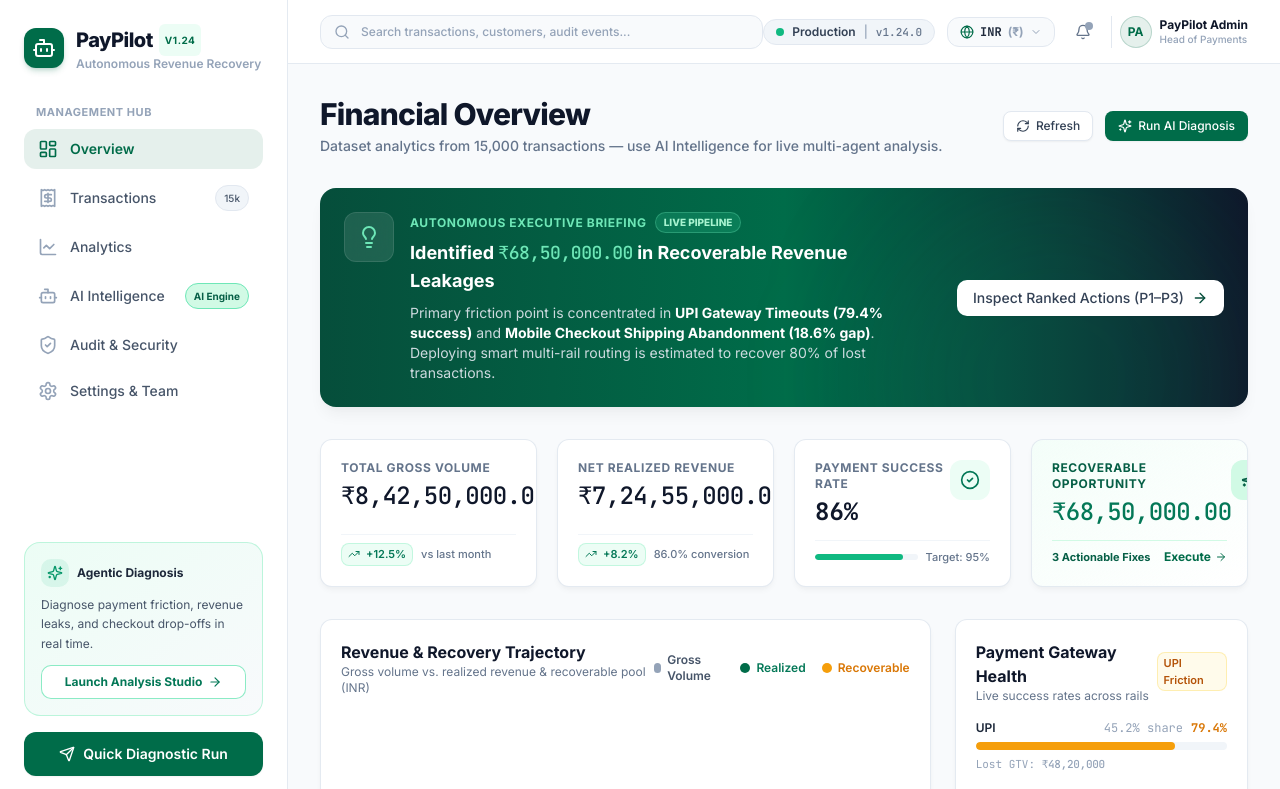
Test: PayPilot Application End-to-End Screen Verification › 4. AI Intelligence Center: Shows an honest empty state on load, and a visible error (never fake data) when the backend is unreachable
This screenshot has width=1280, height=789.
Click the button "AI Intelligence AI Engine". click: click(144, 296)
box: [24,272,263,318]
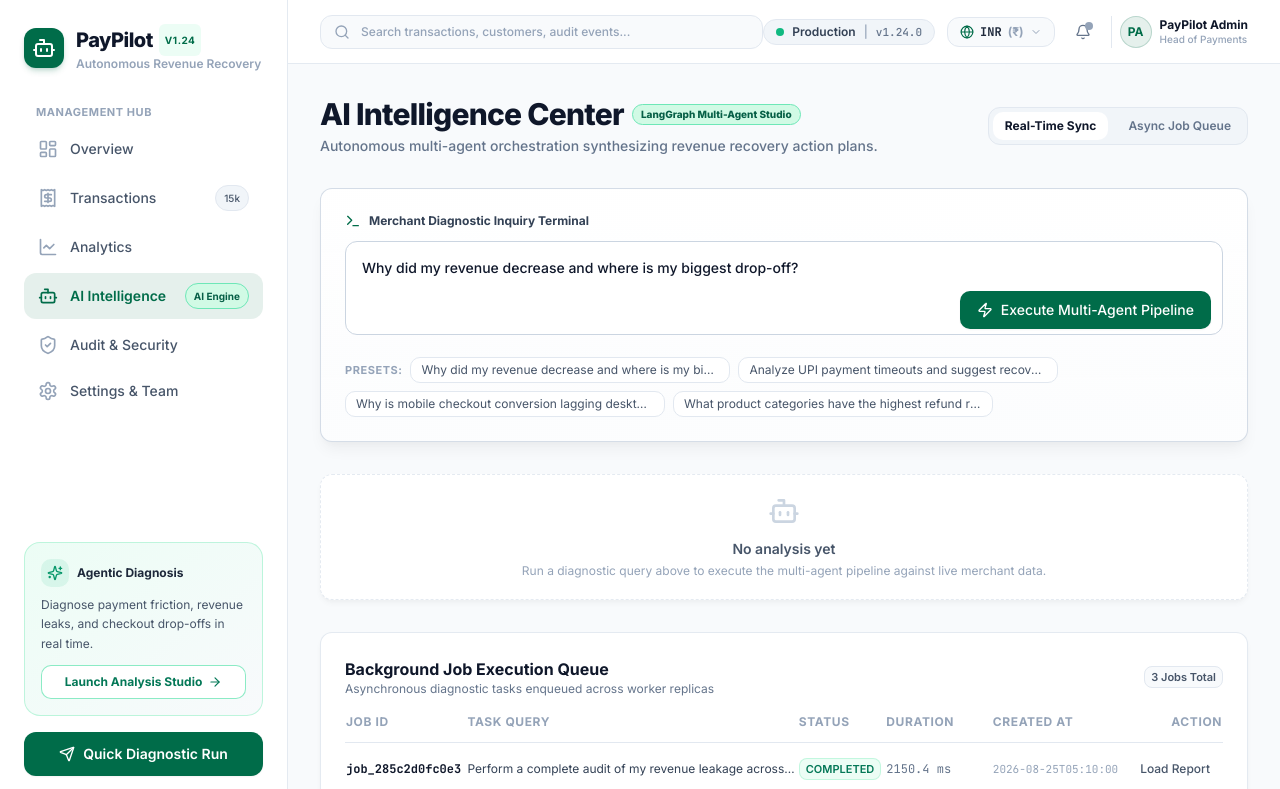
Now the heading "AI Intelligence Center" is shown, box [320,96,624,132]
Now the text "Merchant Diagnostic Inquiry Terminal" is shown, box [369,213,589,229]
Now the button "Real-Time Sync" is shown, box [993,112,1108,140]
Click the button "Execute Multi-Agent Pipeline". click: click(1085, 310)
box: [960,291,1211,329]
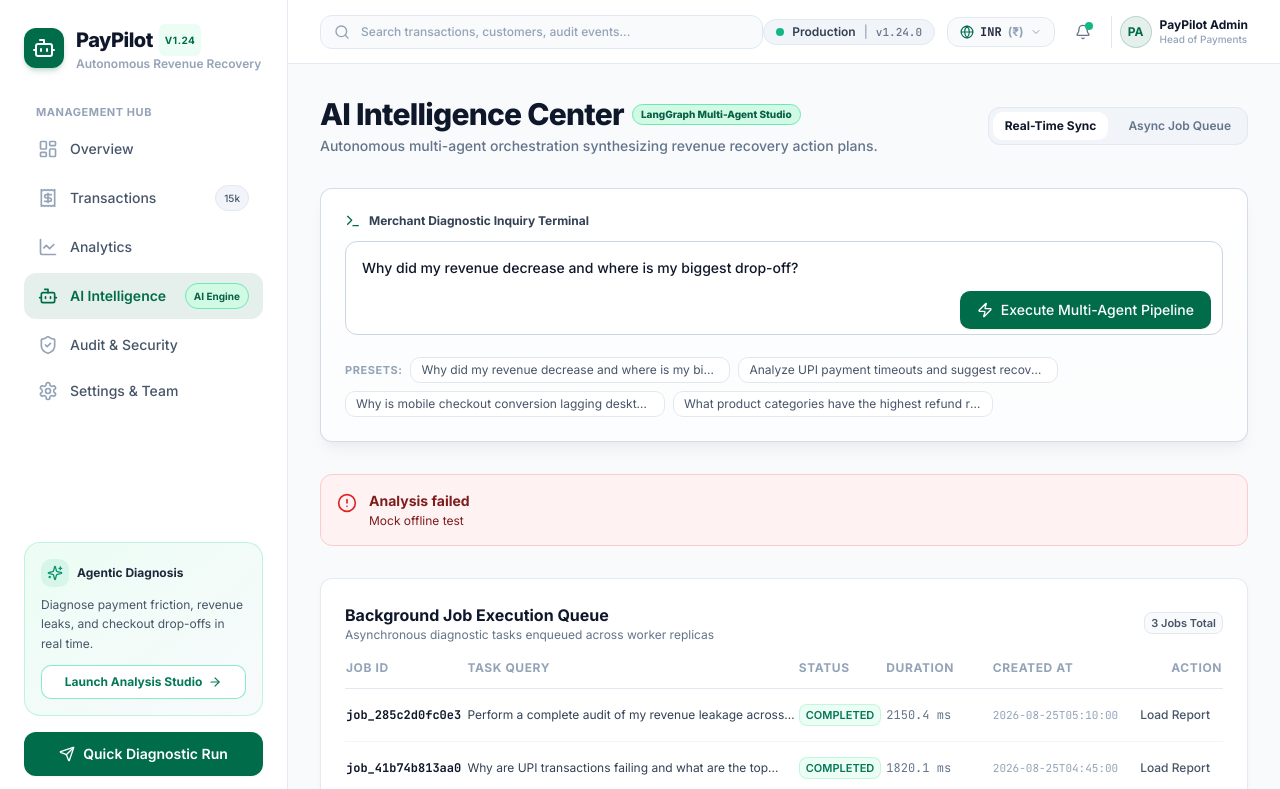
Now the text "Analysis failed" is shown, box [369,491,470,511]
